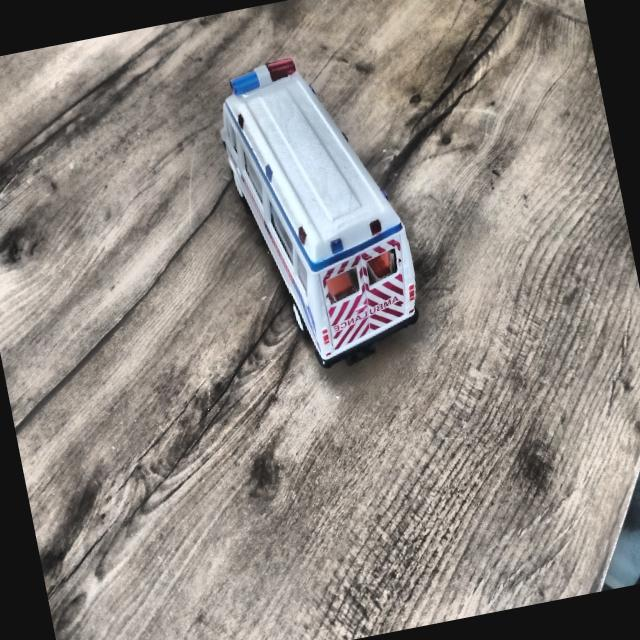Ambulance: (200, 34, 446, 398)
